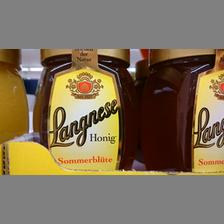Honig: (34, 48, 136, 172)
